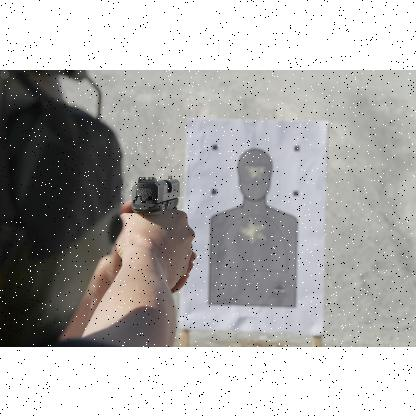gun: (130, 174, 180, 212)
